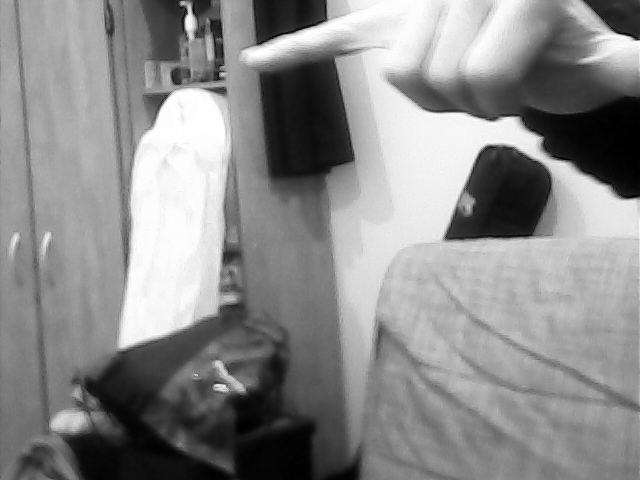aloha: (232, 1, 640, 127)
